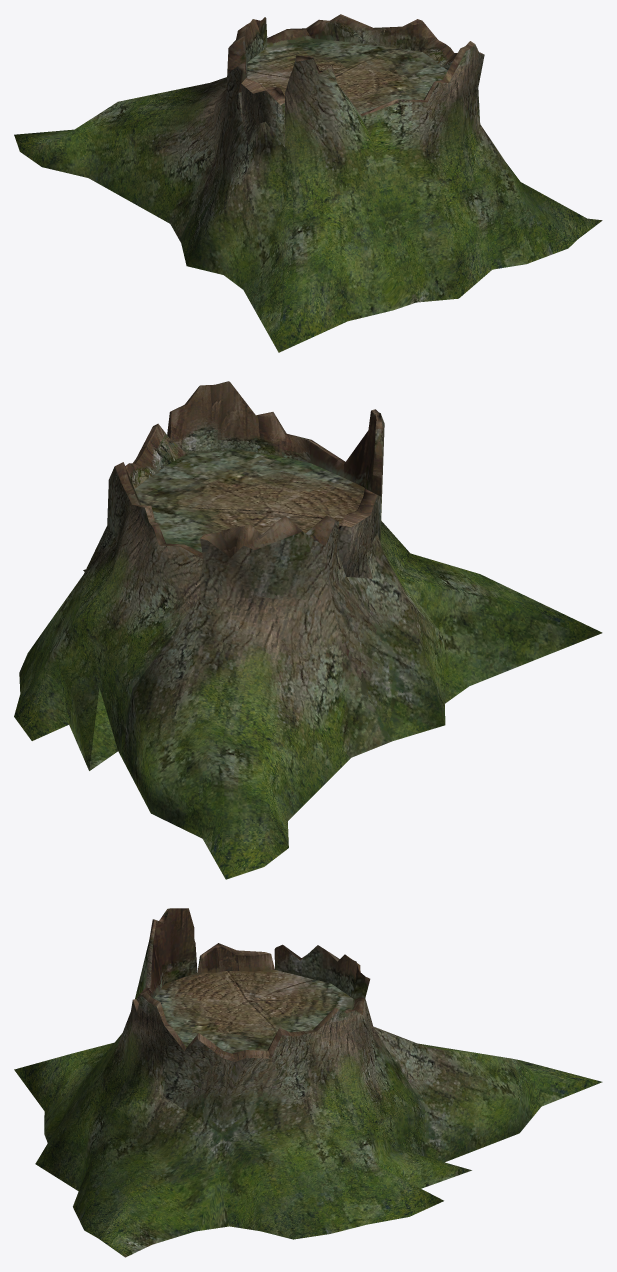
The model's file is Vegetation_Shugen0101.glb.
3 renders of one model, top to bottom at view 1: azimuth 30°, elevation 25°; view 2: azimuth 150°, elevation 25°; view 3: azimuth 270°, elevation 25°, orthographic. The views are drawn at different scales.
Visible parts, largest first — view 1: common_shugen01_01; view 2: common_shugen01_01; view 3: common_shugen01_01.
Boxes of the visible parts, x1,y1,x2,y2 form: common_shugen01_01: (14,14,602,352); common_shugen01_01: (14,381,602,879); common_shugen01_01: (14,908,602,1257).
Bounding box in the file's own units: 7.1 × 3.81 × 9.4.
Materials: 1 (1 with a texture image).
